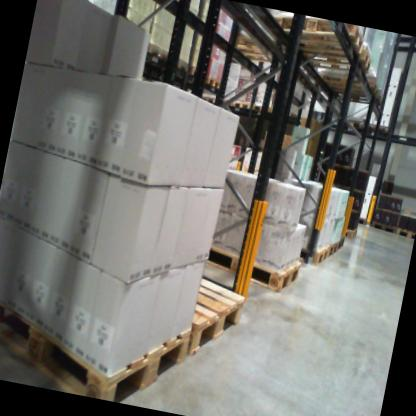pallet: (0, 284, 204, 411), (170, 260, 250, 374), (194, 235, 305, 301), (268, 10, 371, 63), (292, 37, 377, 78), (223, 25, 293, 71), (315, 68, 383, 102), (318, 82, 385, 109), (140, 34, 169, 66), (296, 240, 330, 265), (336, 112, 364, 138), (362, 117, 391, 142), (167, 49, 193, 74), (369, 219, 397, 238), (201, 73, 225, 94), (195, 92, 219, 111), (229, 93, 251, 112), (329, 231, 347, 250), (394, 225, 415, 241), (323, 237, 340, 256), (344, 224, 362, 239), (249, 101, 269, 114), (355, 215, 368, 225)
